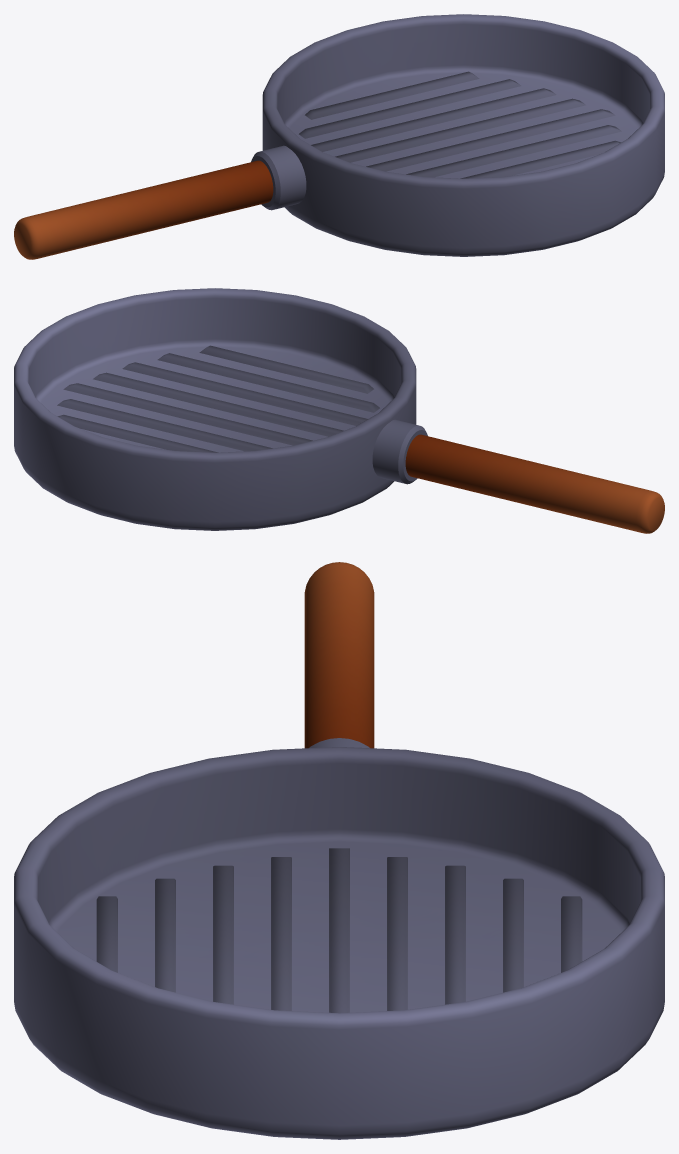
Rendered from OB_Pan.FBX.
3 views of the same model, one above another, from view 1: azimuth 30°, elevation 25°; view 2: azimuth 150°, elevation 25°; view 3: azimuth 270°, elevation 25° (orthographic). The views are drawn at different scales.
Parts seen in each view (by area): view 1: OB_Pan; view 2: OB_Pan; view 3: OB_Pan.
Part boxes in pixels (left/top/right/bottom): OB_Pan: left=14, top=14, right=664, bottom=259; OB_Pan: left=14, top=288, right=664, bottom=533; OB_Pan: left=14, top=562, right=664, bottom=1139.
Size of the model in its own units: 274 by 155 by 33.13.
